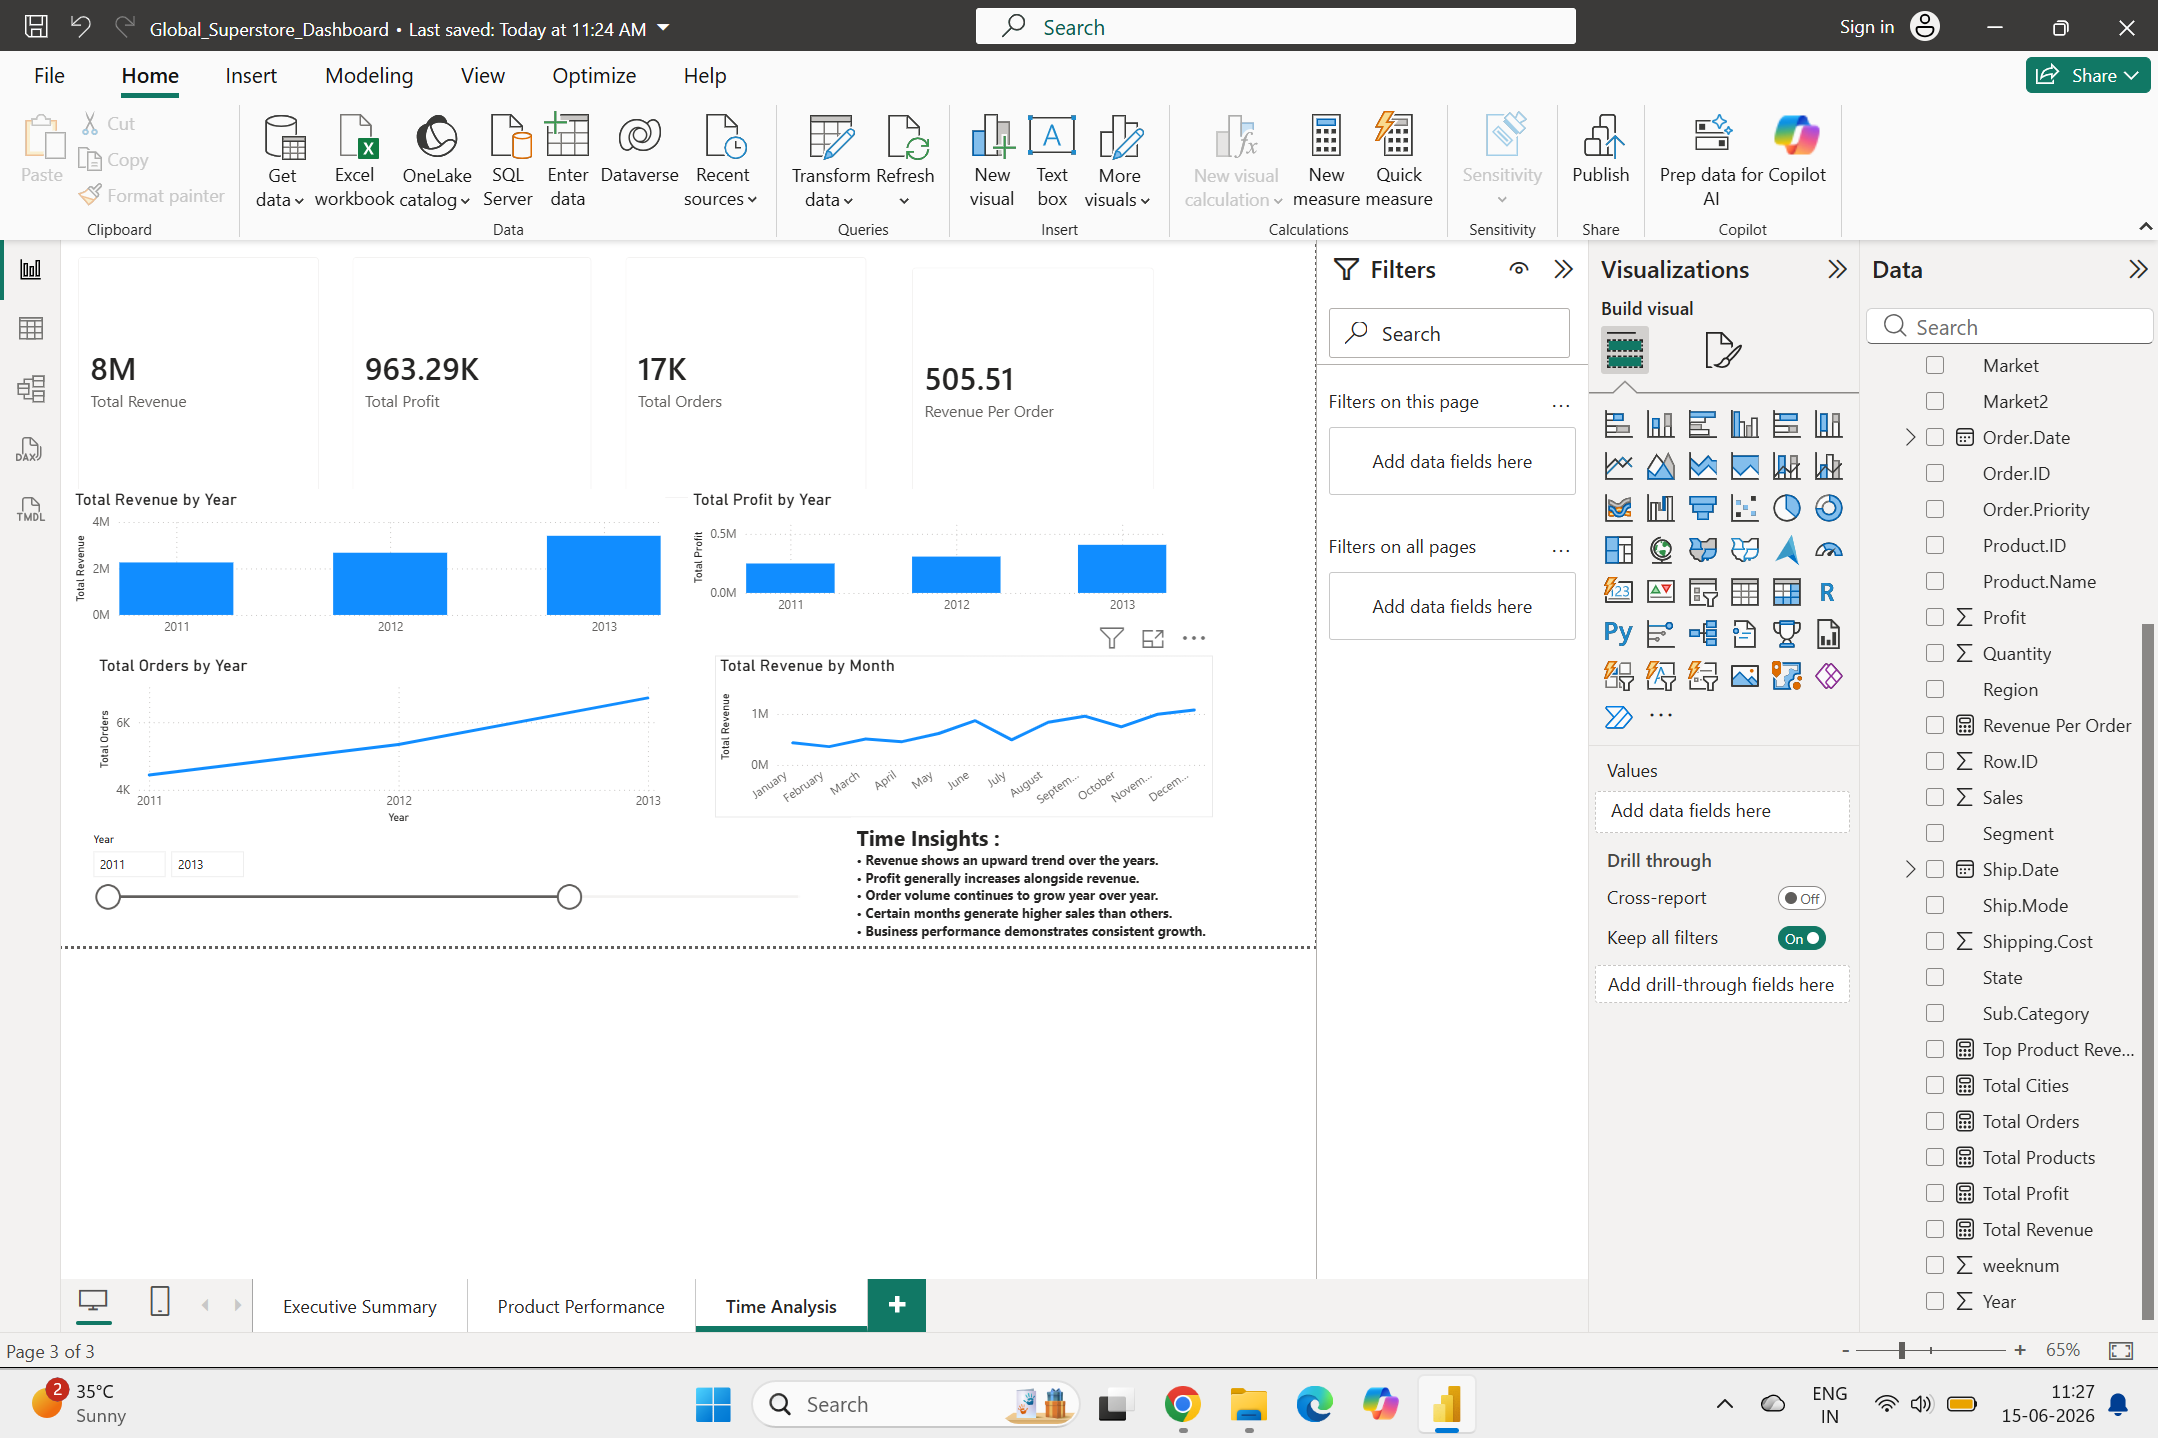

The dashboard page shown, as its layout file describes it:
{"tool":"powerbi","page":{"name":"Time Analysis","canvas":[1280,720],"ordinal":2},"visuals":[{"type":"cardVisual","fields":{"Data":["superstore.Total Revenue"]},"box":[0,0,280,280],"z":0},{"type":"cardVisual","fields":{"Data":["superstore.Revenue Per Order"]},"box":[851.4,10,281.4,280],"z":1},{"type":"cardVisual","fields":{"Data":["superstore.Total Orders"]},"box":[558.6,0,280,280],"z":2},{"type":"cardVisual","fields":{"Data":["superstore.Total Profit"]},"box":[280,0,278.6,280],"z":3},{"type":"clusteredColumnChart","fields":{"Category":["superstore.Year"],"Y":["superstore.Total Revenue"]},"box":[9.4,253.7,607.6,158.2],"z":4},{"type":"clusteredColumnChart","fields":{"Category":["superstore.Year"],"Y":["superstore.Total Profit"]},"box":[640,254.3,492.9,135.7],"z":5},{"type":"lineChart","fields":{"Category":["superstore.Year"],"Y":["superstore.Total Orders"]},"box":[34.3,424.3,582.9,175.7],"z":6},{"type":"lineChart","fields":{"Category":["superstore.Order.Date.Variation.Date Hierarchy.Month"],"Y":["superstore.Total Revenue"]},"box":[667.1,424.3,508.6,164.3],"z":7},{"type":"slicer","fields":{"Values":["superstore.Year"]},"box":[20,600,755.7,110],"z":8},{"type":"textbox","box":[806.6,589.2,397.9,130.1],"z":9}]}

Visuals, with their boxes on the page's 1280x720 design canvas (x1, y1, x2, y2). These are canvas units, not pixel positions in the 2158x1438 screenshot, which may show the page scaled, cropped or inside an application window:
cardVisual - superstore.Total Revenue: crop(0, 0, 280, 280)
cardVisual - superstore.Revenue Per Order: crop(851, 10, 1133, 290)
cardVisual - superstore.Total Orders: crop(559, 0, 839, 280)
cardVisual - superstore.Total Profit: crop(280, 0, 559, 280)
clusteredColumnChart - superstore.Year x superstore.Total Revenue: crop(9, 254, 617, 412)
clusteredColumnChart - superstore.Year x superstore.Total Profit: crop(640, 254, 1133, 390)
lineChart - superstore.Year x superstore.Total Orders: crop(34, 424, 617, 600)
lineChart - superstore.Order.Date.Variation.Date Hierarchy.Month x superstore.Total Revenue: crop(667, 424, 1176, 589)
slicer - superstore.Year: crop(20, 600, 776, 710)
textbox: crop(807, 589, 1204, 719)
